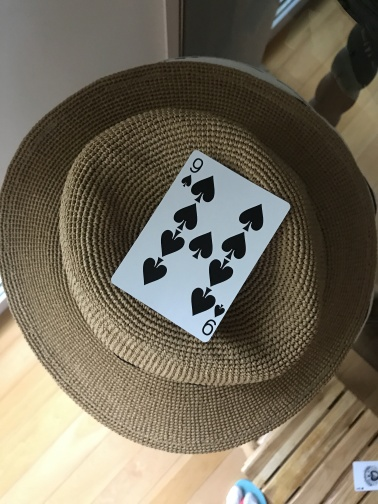nine: (109, 148, 293, 345)
